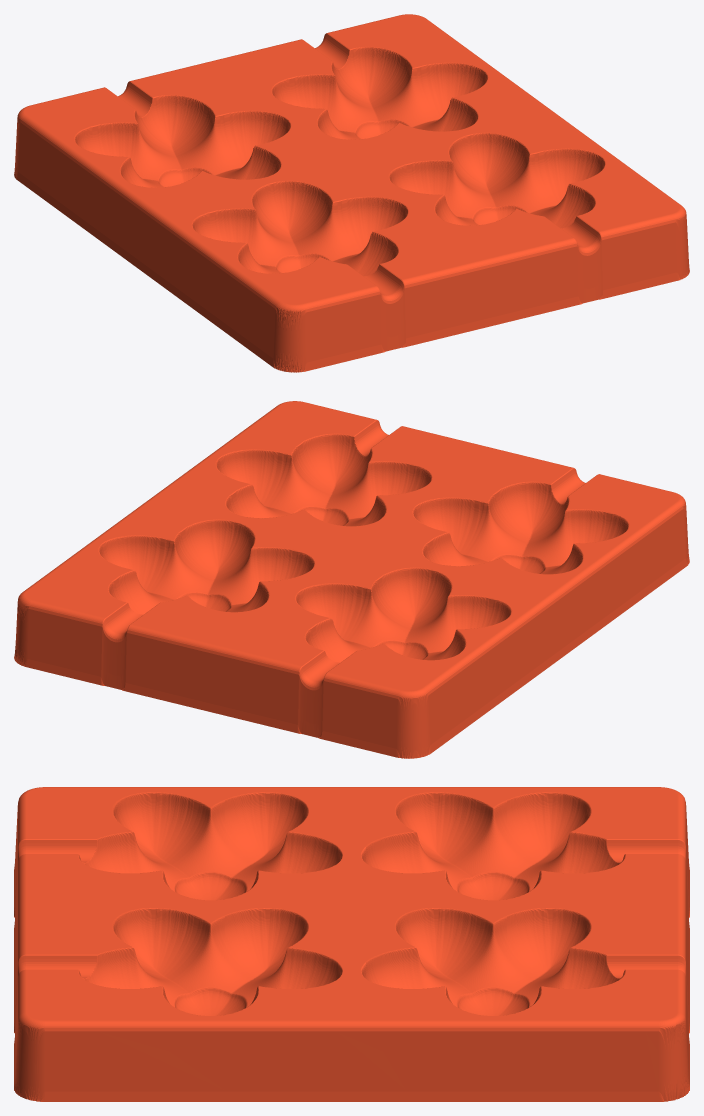
Rendered from mold.glb.
3 views of the same model, one above another, from view 1: azimuth 30°, elevation 25°; view 2: azimuth 150°, elevation 25°; view 3: azimuth 270°, elevation 25° (orthographic). The views are drawn at different scales.
Parts seen in each view (by area): view 1: geometry_0; view 2: geometry_0; view 3: geometry_0.
Boxes of the visible parts, bbox=[...] form: geometry_0: bbox=[14, 14, 689, 372]; geometry_0: bbox=[14, 401, 689, 758]; geometry_0: bbox=[14, 787, 689, 1101].
Size of the model in its own units: 0.1675 by 0.0245 by 0.1968.
